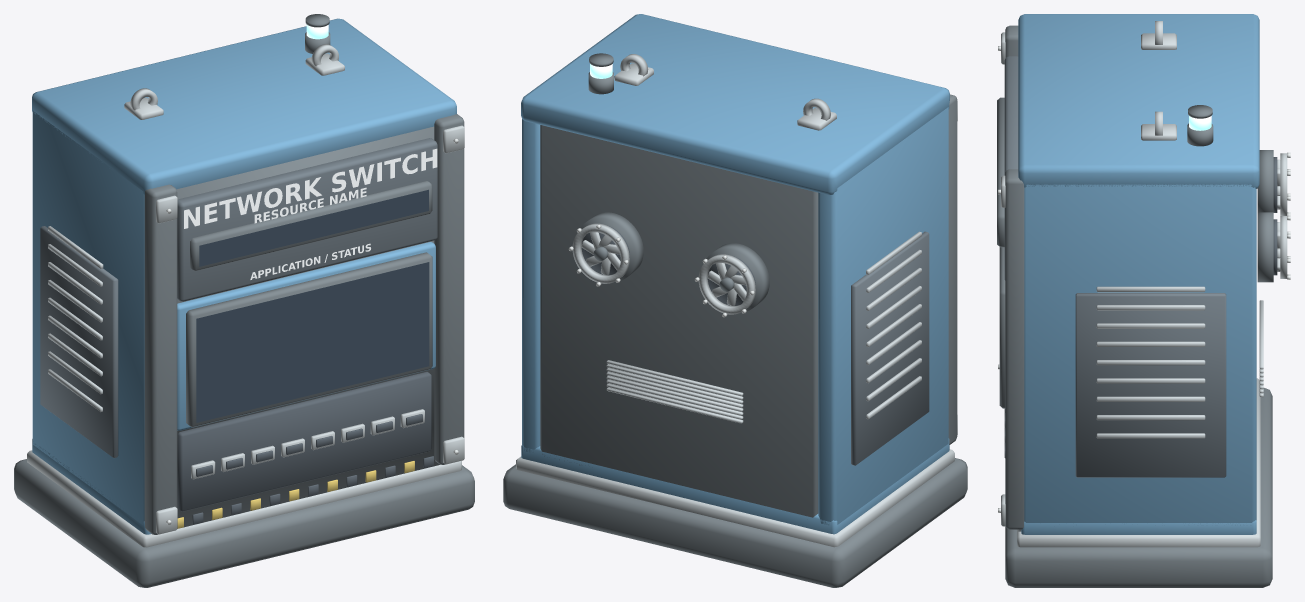
The model's file is network_switch_ultra.glb.
The picture shows the model from 3 angles, left to right: view 1: azimuth 30°, elevation 25°; view 2: azimuth 150°, elevation 25°; view 3: azimuth 270°, elevation 25°; orthographic projection. The views are drawn at different scales.
Visible parts, largest first — view 1: Roof_blue, LiveViewSurface_glass, SideWall_blue, CornerPost_frame, Skid_frame, PatchPanel_black, FrontHeader_graphite, SideServicePanel_graphite, SealFront_frame, SkidDeck_steel, LiveViewSurfaceFrame_frame, ResourceNameSurface_glass (+14 smaller); view 2: BackWall_frame, Roof_blue, SideWall_blue, Skid_frame, SideServicePanel_graphite, SkidDeck_steel, KickPlate_blue, RearFan_steel, RearVent_steel, CornerPost_frame, SideLouver_steel, RearFan_frame (+3 smaller); view 3: SideWall_blue, Roof_blue, SideServicePanel_graphite, Skid_frame, CornerPost_frame, SideLouver_steel, SkidDeck_steel, KickPlate_blue, RearFan_frame, FrontHeader_graphite, RearFan_steel, LiveViewSurfaceFrame_frame (+7 smaller).
Part boxes in pixels (x1,y1,x2,y2): Roof_blue: [32, 18, 456, 194]; LiveViewSurface_glass: [196, 262, 429, 422]; SideWall_blue: [32, 111, 144, 524]; CornerPost_frame: [144, 114, 464, 534]; Skid_frame: [14, 459, 474, 587]; PatchPanel_black: [177, 372, 431, 511]; FrontHeader_graphite: [177, 138, 437, 301]; SideServicePanel_graphite: [40, 226, 118, 457]; SealFront_frame: [176, 126, 439, 527]; SkidDeck_steel: [27, 450, 461, 547]; LiveViewSurfaceFrame_frame: [186, 252, 432, 427]; ResourceNameSurface_glass: [199, 189, 428, 266]; BackWall_frame: [540, 125, 818, 517]; Roof_blue: [521, 14, 949, 195]; SideWall_blue: [522, 107, 948, 525]; Skid_frame: [503, 458, 967, 587]; SideServicePanel_graphite: [851, 231, 929, 465]; SkidDeck_steel: [516, 449, 954, 547]; KickPlate_blue: [521, 438, 949, 534]; RearFan_steel: [572, 223, 755, 314]; RearVent_steel: [606, 360, 743, 423]; CornerPost_frame: [948, 94, 957, 444]; SideLouver_steel: [866, 231, 921, 419]; RearFan_frame: [580, 212, 769, 312]; SideWall_blue: [1024, 184, 1256, 525]; Roof_blue: [1018, 14, 1259, 188]; SideServicePanel_graphite: [1075, 293, 1226, 477]; Skid_frame: [1005, 388, 1272, 587]; CornerPost_frame: [1005, 25, 1024, 529]; SideLouver_steel: [1096, 286, 1205, 438]; SkidDeck_steel: [1017, 378, 1260, 547]; KickPlate_blue: [1021, 520, 1256, 534]; RearFan_frame: [1257, 150, 1273, 282]; FrontHeader_graphite: [1004, 56, 1018, 280]; RearFan_steel: [1277, 153, 1287, 278]; LiveViewSurfaceFrame_frame: [999, 247, 1005, 408].
Size of the model in its own units: 2 by 2.48 by 1.47.
